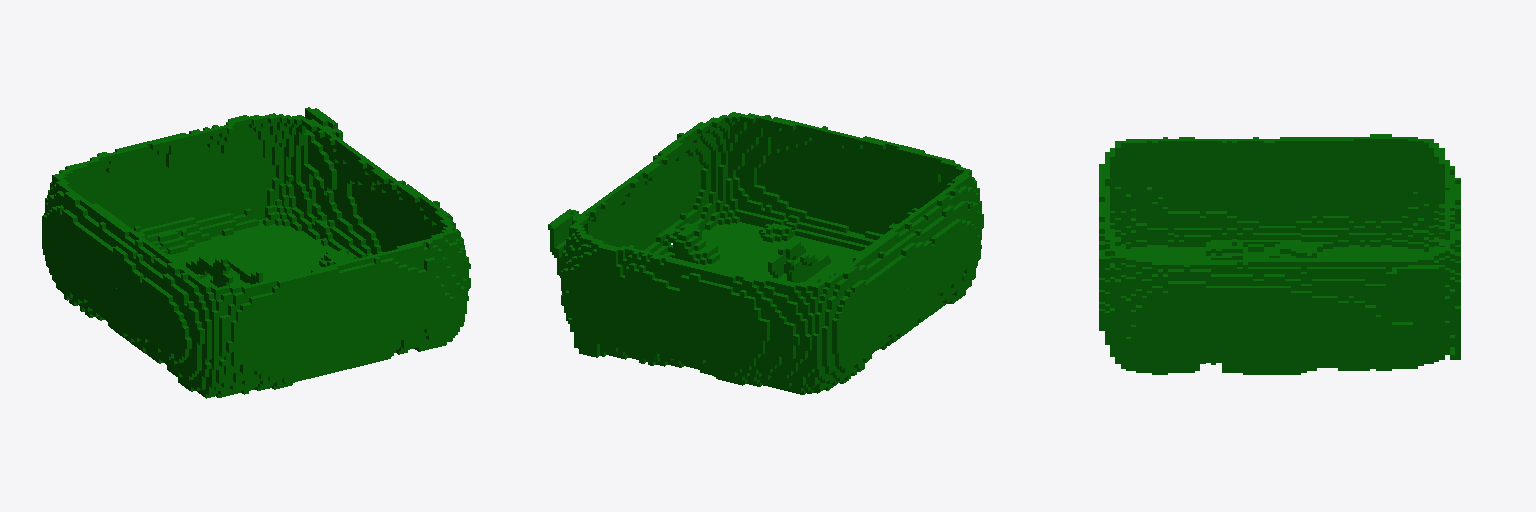
The model's file is Input_surface.obj.
3 renders of one model, left to right at view 1: azimuth 30°, elevation 25°; view 2: azimuth 150°, elevation 25°; view 3: azimuth 270°, elevation 25°, orthographic.
Visible parts, largest first — view 1: Cube; view 2: Cube; view 3: Cube.
Boxes of the visible parts, x1,y1,x2,y2 form: Cube: [42, 107, 470, 398]; Cube: [548, 112, 983, 394]; Cube: [1099, 134, 1460, 374].
Bounding box in the file's own units: 4.88 × 1.84 × 5.44.